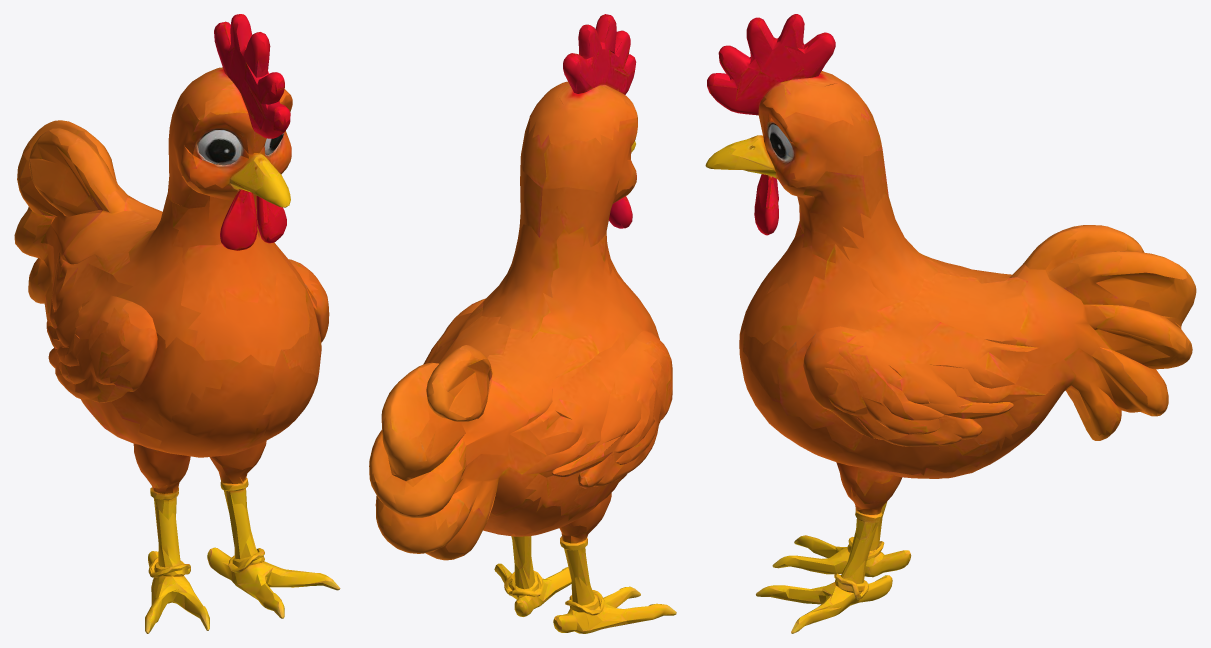
The model's file is chicken.glb.
The picture shows the model from 3 angles, left to right: view 1: azimuth 30°, elevation 25°; view 2: azimuth 150°, elevation 25°; view 3: azimuth 270°, elevation 25°; orthographic projection. The views are drawn at different scales.
Bounding box in the file's own units: 0.7777 × 1.9 × 1.47.
1 material, 1 textured.
